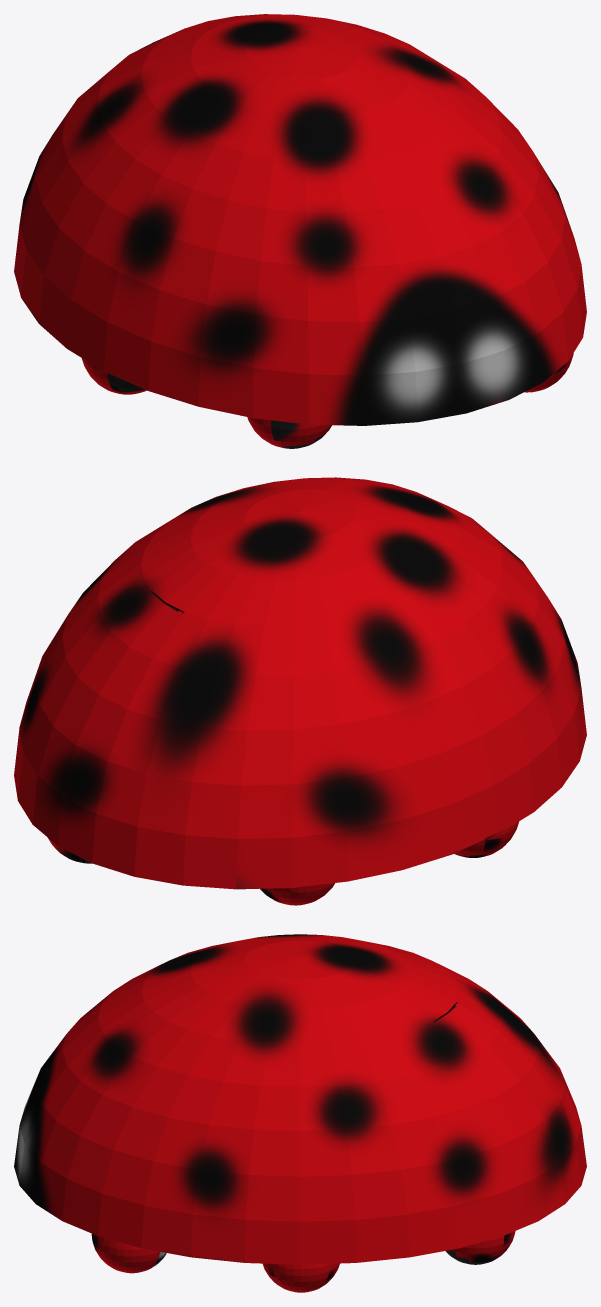
The model's file is LadyBug.fbx.
The picture shows the model from 3 angles, top to bottom: view 1: azimuth 30°, elevation 25°; view 2: azimuth 150°, elevation 25°; view 3: azimuth 270°, elevation 25°; orthographic projection. The views are drawn at different scales.
Parts seen in each view (by area): view 1: Sphere; view 2: Sphere; view 3: Sphere.
Part boxes in pixels (bbox=[...]): Sphere: bbox=[14, 14, 586, 448]; Sphere: bbox=[14, 477, 586, 905]; Sphere: bbox=[14, 934, 586, 1292].
Size of the model in its own units: 386 by 237 by 475.
2 materials, 2 textured.
